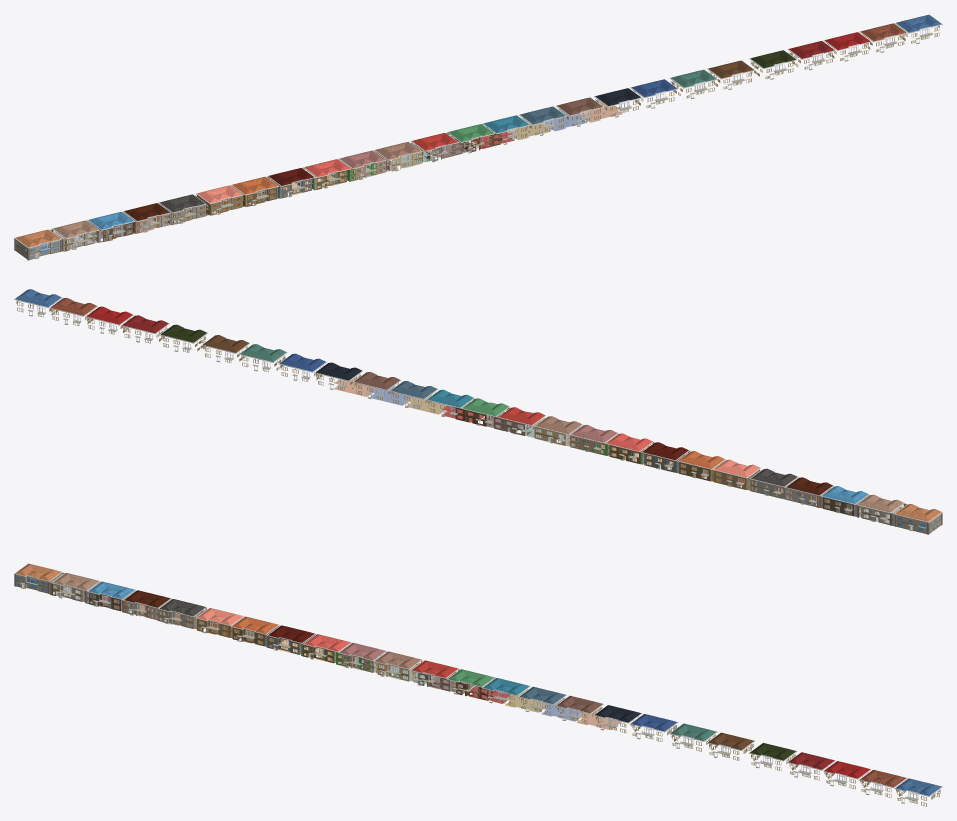
File: House_009_Custom.fbx
The picture shows the model from 3 angles, top to bottom: view 1: azimuth 30°, elevation 25°; view 2: azimuth 150°, elevation 25°; view 3: azimuth 330°, elevation 25°; orthographic projection.
Visible parts, largest first — view 1: House_009_Roofs_v19, House_009_Roofs_v22, House_009_Roofs_v21, House_009_Roofs_v20, House_009_Roofs_v17, House_009_Roofs_v23, House_009_Roofs_v24, House_009_Roofs_v25, House_009_Roofs_v18, House_009_Roofs_v16, House_009_Roofs_v15, House_009_Roofs_v1 (+13 smaller); view 2: House_009_Roofs_v21, House_009_Roofs_v19, House_009_Roofs_v22, House_009_Roofs_v18, House_009_Roofs_v20, House_009_Roofs_v23, House_009_Roofs_v24, House_009_Roofs_v25, House_009_Roofs_v17, House_009_Roofs_v14, House_009_Roofs_v16, House_009_Roofs_v15 (+13 smaller); view 3: House_009_Roofs_v25, House_009_Roofs_v20, House_009_Roofs_v18, House_009_Roofs_v21, House_009_Roofs_v19, House_009_Roofs_v16, House_009_Roofs_v17, House_009_Roofs_v15, House_009_Roofs_v23, House_009_Roofs_v24, House_009_Roofs_v22, House_009_Roofs_v14 (+13 smaller).
Part boxes in pixels (left/top/right/bottom): House_009_Roofs_v19: left=670, top=69, right=717, bottom=98; House_009_Roofs_v22: left=787, top=40, right=835, bottom=70; House_009_Roofs_v21: left=749, top=50, right=796, bottom=79; House_009_Roofs_v20: left=707, top=60, right=755, bottom=89; House_009_Roofs_v17: left=594, top=88, right=641, bottom=117; House_009_Roofs_v23: left=823, top=32, right=871, bottom=61; House_009_Roofs_v24: left=859, top=23, right=907, bottom=52; House_009_Roofs_v25: left=895, top=14, right=942, bottom=43; House_009_Roofs_v18: left=630, top=79, right=677, bottom=108; House_009_Roofs_v16: left=556, top=97, right=603, bottom=126; House_009_Roofs_v15: left=519, top=106, right=566, bottom=135; House_009_Roofs_v1: left=14, top=229, right=61, bottom=258; House_009_Roofs_v21: left=159, top=324, right=207, bottom=352; House_009_Roofs_v19: left=239, top=344, right=287, bottom=372; House_009_Roofs_v22: left=121, top=315, right=169, bottom=343; House_009_Roofs_v18: left=278, top=353, right=326, bottom=381; House_009_Roofs_v20: left=201, top=335, right=250, bottom=362; House_009_Roofs_v23: left=85, top=306, right=133, bottom=334; House_009_Roofs_v24: left=49, top=298, right=97, bottom=325; House_009_Roofs_v25: left=14, top=289, right=62, bottom=317; House_009_Roofs_v17: left=314, top=362, right=362, bottom=390; House_009_Roofs_v14: left=426, top=389, right=474, bottom=417; House_009_Roofs_v16: left=353, top=372, right=401, bottom=399; House_009_Roofs_v15: left=390, top=381, right=438, bottom=408; House_009_Roofs_v25: left=894, top=778, right=942, bottom=806; House_009_Roofs_v20: left=707, top=732, right=754, bottom=760; House_009_Roofs_v18: left=630, top=713, right=678, bottom=741; House_009_Roofs_v21: left=748, top=742, right=797, bottom=770; House_009_Roofs_v19: left=669, top=723, right=717, bottom=751; House_009_Roofs_v16: left=555, top=695, right=603, bottom=723; House_009_Roofs_v17: left=593, top=705, right=642, bottom=733; House_009_Roofs_v15: left=518, top=686, right=566, bottom=714; House_009_Roofs_v23: left=823, top=760, right=871, bottom=789; House_009_Roofs_v24: left=859, top=769, right=907, bottom=797; House_009_Roofs_v22: left=787, top=752, right=835, bottom=780; House_009_Roofs_v14: left=482, top=677, right=530, bottom=705.
Size of the model in its own units: 26.51 by 0.4186 by 0.849.
